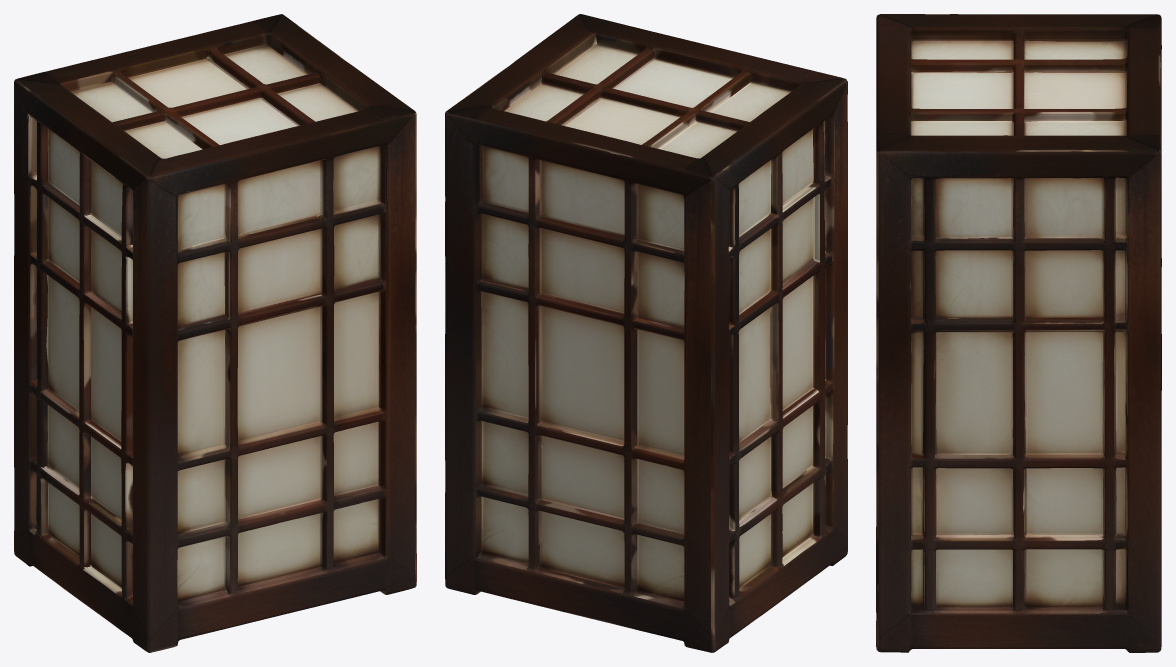
File: traveler_env_coast_iuchi_storm_broken_frame_00001_.glb
3 renders of one model, left to right at view 1: azimuth 30°, elevation 25°; view 2: azimuth 150°, elevation 25°; view 3: azimuth 270°, elevation 25°, orthographic. The views are drawn at different scales.
Visible parts, largest first — view 1: temp_mesh.ply; view 2: temp_mesh.ply; view 3: temp_mesh.ply.
Part boxes in pixels (x1=…): temp_mesh.ply: x1=14, y1=14, x2=416, y2=652; temp_mesh.ply: x1=445, y1=14, x2=847, y2=652; temp_mesh.ply: x1=876, y1=14, x2=1161, y2=652.
Size of the model in its own units: 1.17 by 1.97 by 1.02.
1 material, 1 textured.
